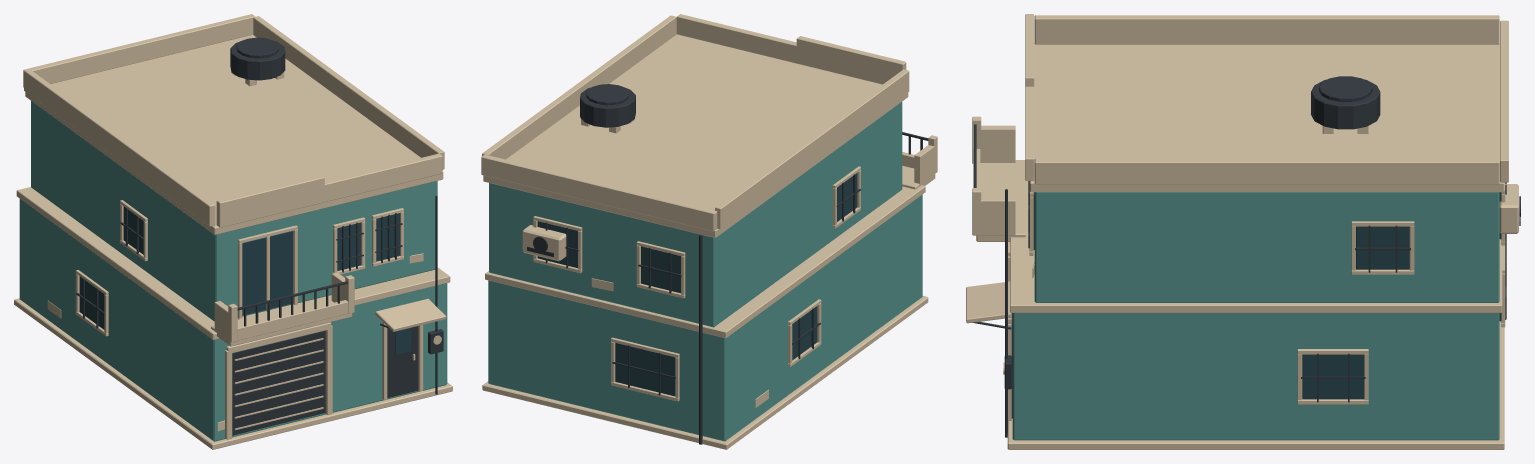
File: yun_caribbean_house_02.glb
3 renders of one model, left to right at view 1: azimuth 30°, elevation 25°; view 2: azimuth 150°, elevation 25°; view 3: azimuth 270°, elevation 25°, orthographic. The views are drawn at different scales.
Parts seen in each view (by area): view 1: BATCH_DetailRoof, BATCH_WallPlaster, BATCH_DarkMetal, BATCH_WindowGlass; view 2: BATCH_DetailRoof, BATCH_WallPlaster, BATCH_WindowGlass, BATCH_DarkMetal; view 3: BATCH_DetailRoof, BATCH_WallPlaster, BATCH_DarkMetal, BATCH_WindowGlass.
Boxes of the visible parts, x1,y1,x2,y2 form: BATCH_DetailRoof: (14, 14, 452, 449); BATCH_WallPlaster: (19, 101, 447, 441); BATCH_DarkMetal: (76, 37, 443, 435); BATCH_WindowGlass: (79, 206, 410, 355); BATCH_DetailRoof: (481, 14, 937, 449); BATCH_WallPlaster: (488, 102, 922, 441); BATCH_WindowGlass: (537, 173, 857, 396); BATCH_DarkMetal: (527, 84, 928, 444); BATCH_DetailRoof: (966, 14, 1518, 449); BATCH_WallPlaster: (1012, 192, 1499, 440); BATCH_DarkMetal: (972, 76, 1520, 437); BATCH_WindowGlass: (1033, 192, 1501, 399).
Bounding box in the file's own units: 7.11 × 7.25 × 11.16.
